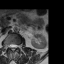CCS_normal: (11, 41, 14, 53)
LFS_normal: (17, 41, 19, 50)
LLS_normal: (14, 41, 17, 50)
RFS_normal: (6, 42, 9, 49)
RLS_normal: (9, 41, 11, 50)
